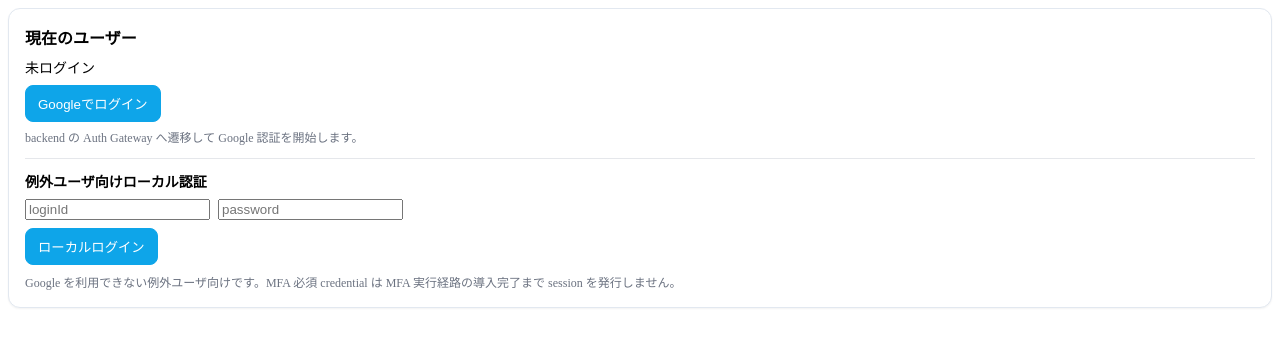
Test: CurrentUser › shows local login guidance for local_login_rate_limited
The image size is (1280, 353).
Type "local-user" into the field named "ローカル認証 loginId" at (118, 210), box 25,199 -> 210,220
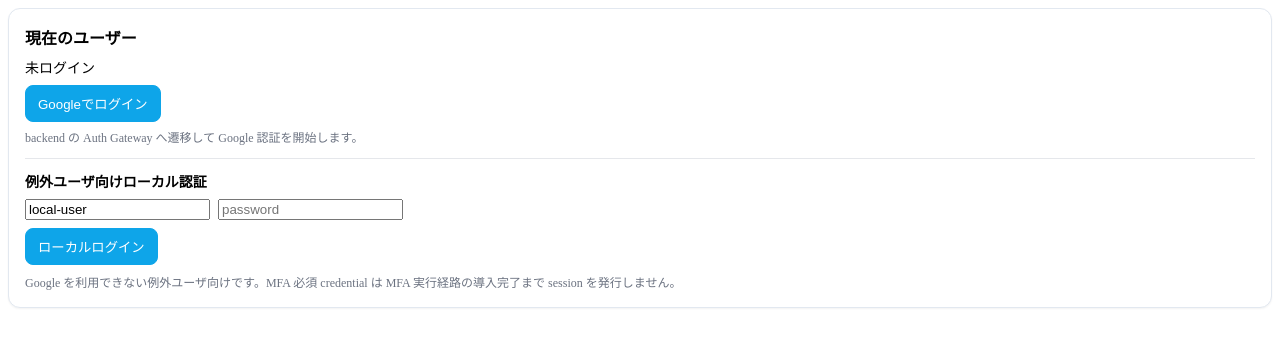
Type "old-password" into the password field named "ローカル認証 password" at (310, 210), box 218,199 -> 403,220
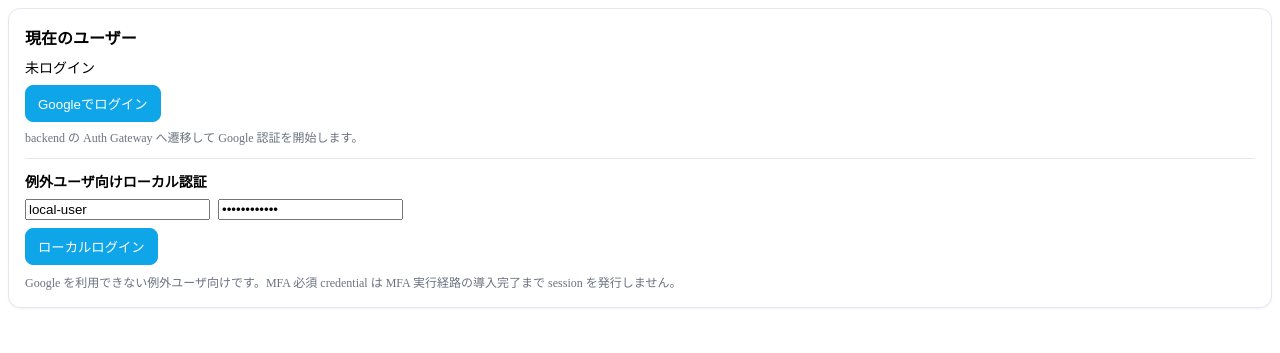
Click the button "ローカルログイン" at (91, 246), box 25,228 -> 158,265
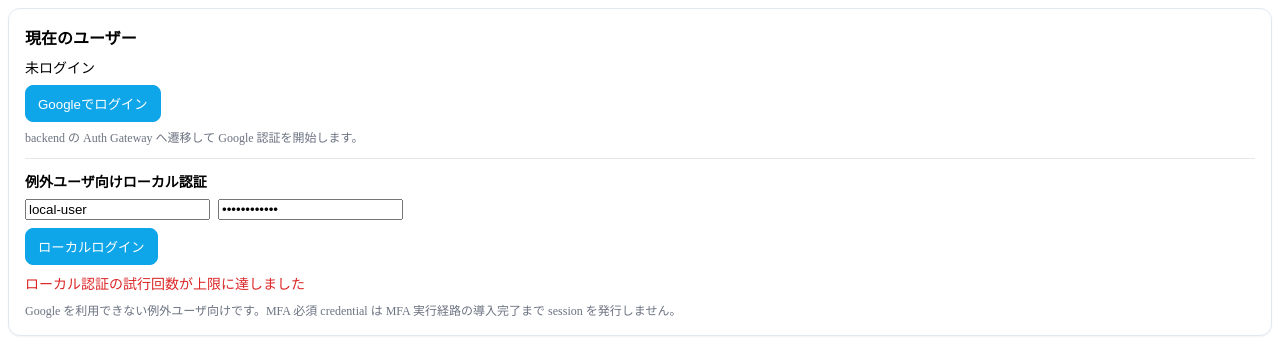
Result: the text "ローカル認証の試行回数が上限に達しました" is shown at 25,277 -> 305,292
